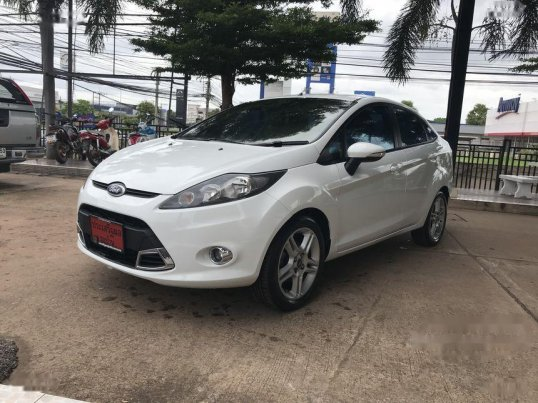sedan: (74, 93, 456, 311)
